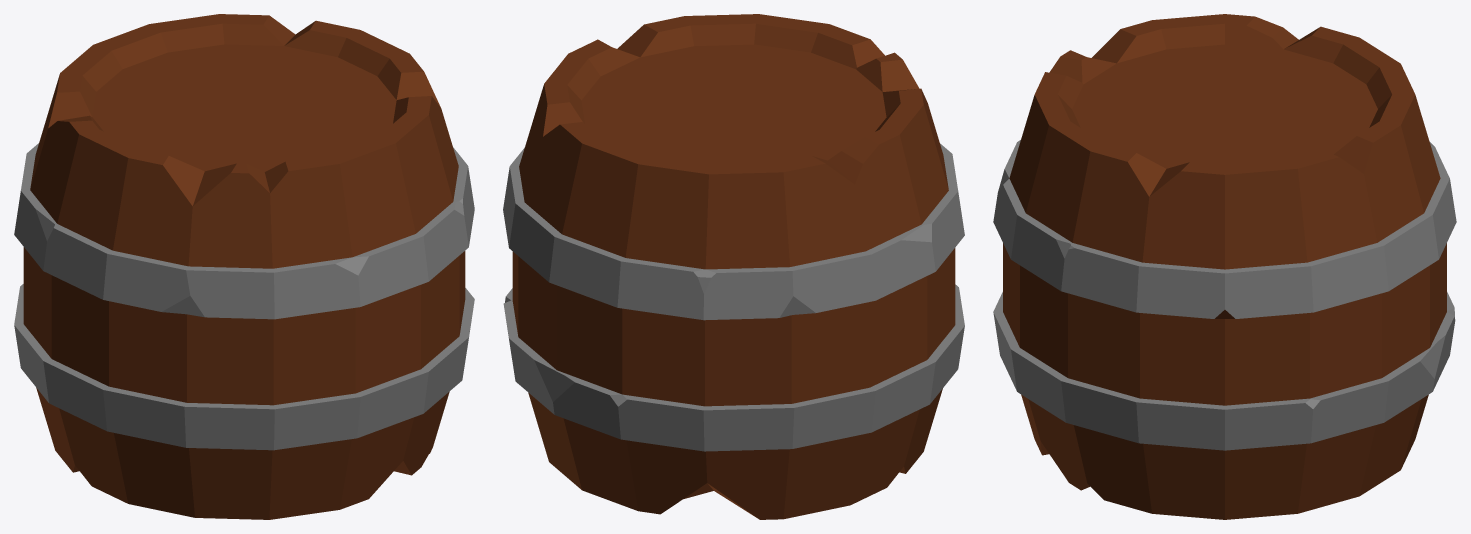
Rendered from fbx_Barrel.fbx.
3 renders of one model, left to right at view 1: azimuth 30°, elevation 25°; view 2: azimuth 150°, elevation 25°; view 3: azimuth 270°, elevation 25°, orthographic.
Parts seen in each view (by area): view 1: Cylinder; view 2: Cylinder; view 3: Cylinder.
Part boxes in pixels (x1,y1,x2,y2): Cylinder: (14,14,474,519); Cylinder: (503,14,964,519); Cylinder: (993,14,1456,519).
Bounding box in the file's own units: 243 × 200 × 243.
